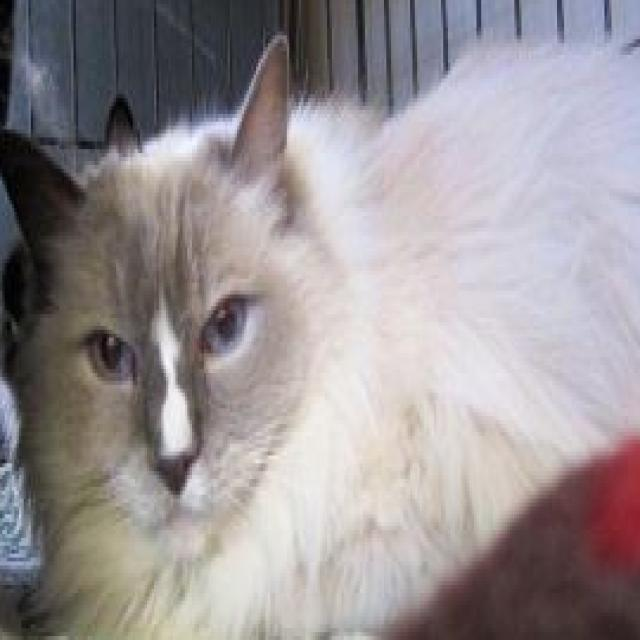Ragdoll: (0, 23, 640, 640)
